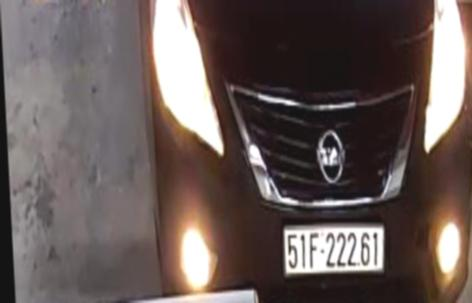License_Plate: (277, 218, 384, 279)
